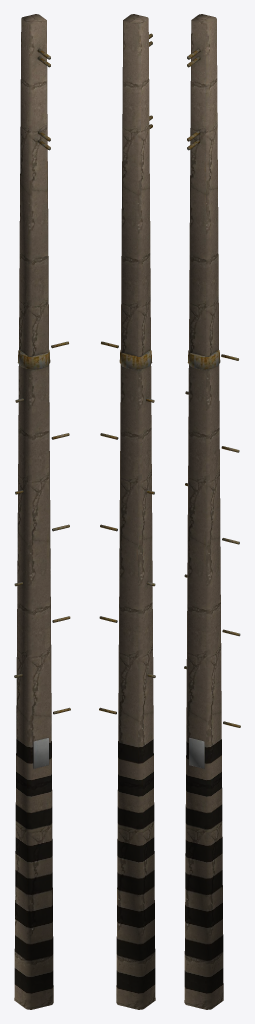
Rendered from thai_pole.glb.
3 views of the same model, side by side, from view 1: azimuth 30°, elevation 25°; view 2: azimuth 150°, elevation 25°; view 3: azimuth 330°, elevation 25° (orthographic).
Visible parts, largest first — view 1: thai_pole; view 2: thai_pole; view 3: thai_pole.
Part boxes in pixels (x1,y1,x2,y2): thai_pole: (14, 14, 70, 1009); thai_pole: (99, 14, 155, 1009); thai_pole: (184, 14, 240, 1009).
Bounding box in the file's own units: 0.5318 × 9 × 0.3944.
Materials: 1 (1 with a texture image).
